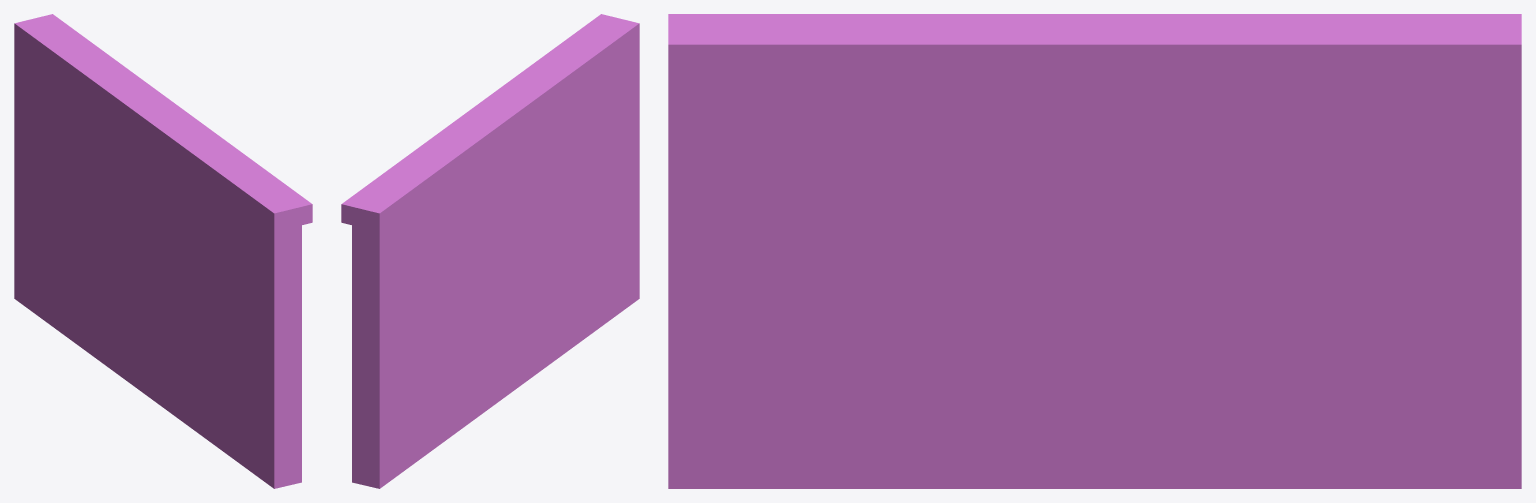
Rendered from Wall.fbx.
3 renders of one model, left to right at view 1: azimuth 30°, elevation 25°; view 2: azimuth 150°, elevation 25°; view 3: azimuth 270°, elevation 25°, orthographic. The views are drawn at different scales.
Visible parts, largest first — view 1: Wallbig; view 2: Wallbig; view 3: Wallbig.
Part boxes in pixels (left/top/right/bottom): Wallbig: left=14, top=14, right=312, bottom=488; Wallbig: left=341, top=14, right=639, bottom=488; Wallbig: left=668, top=14, right=1521, bottom=488.
Size of the model in its own units: 79.48 by 547 by 935.
